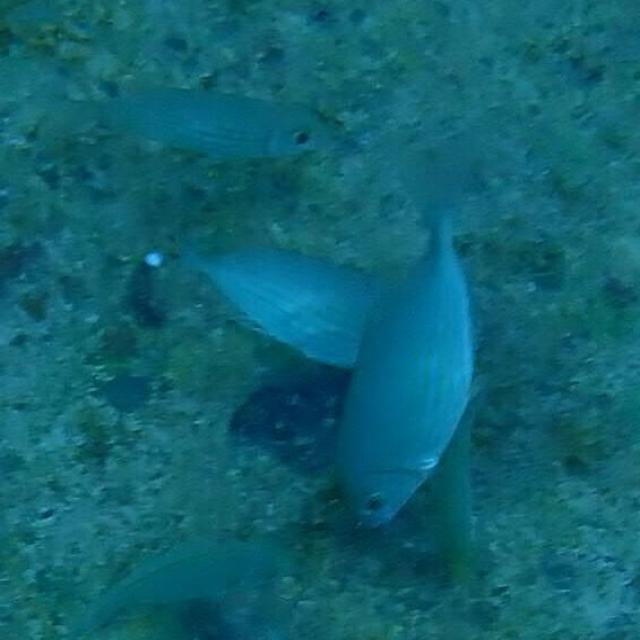Sokar Baligi: (42, 61, 336, 187)
